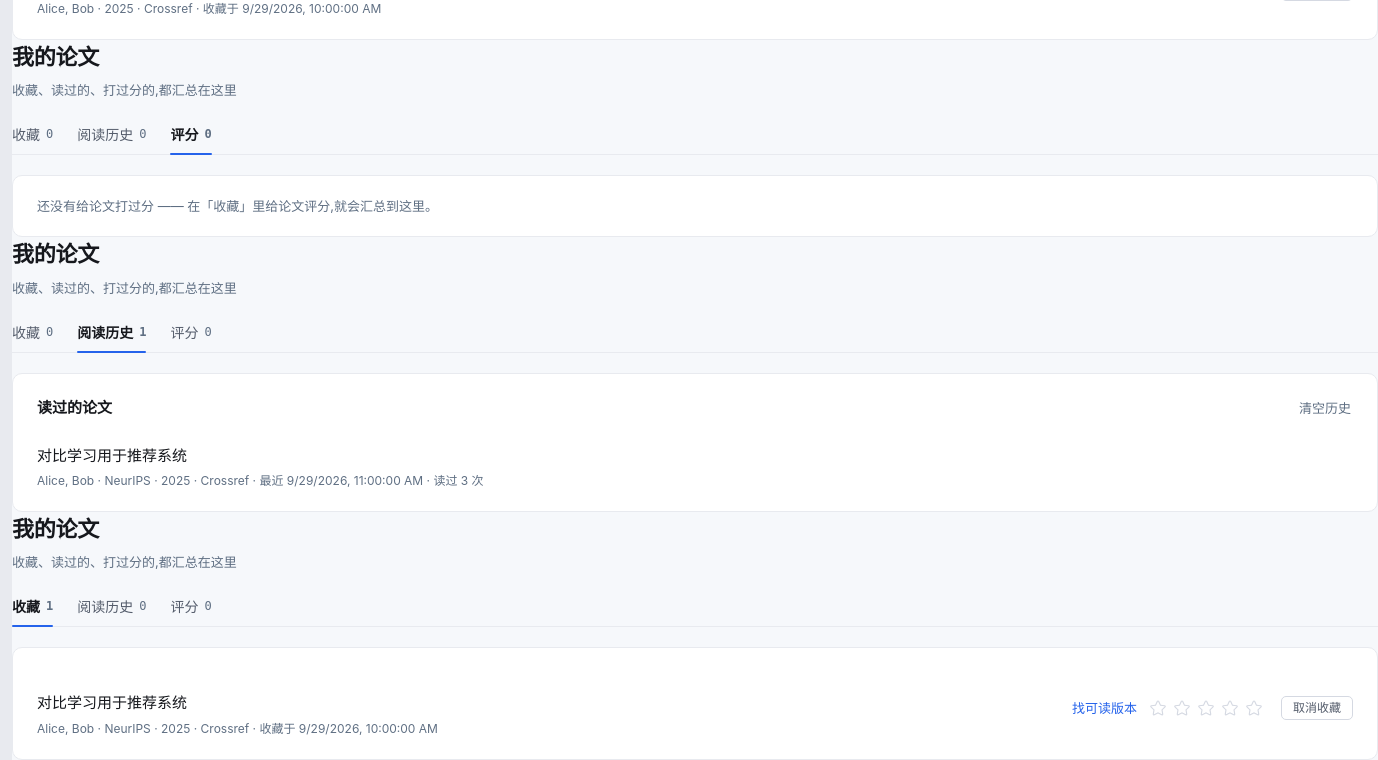
it: LibraryView › 取消收藏后从列表里移除
(page scrolled)
Click the 2nd button "取消收藏" at {"x": 1317, "y": 708}, box [1281,696,1353,720]
(page scrolled)
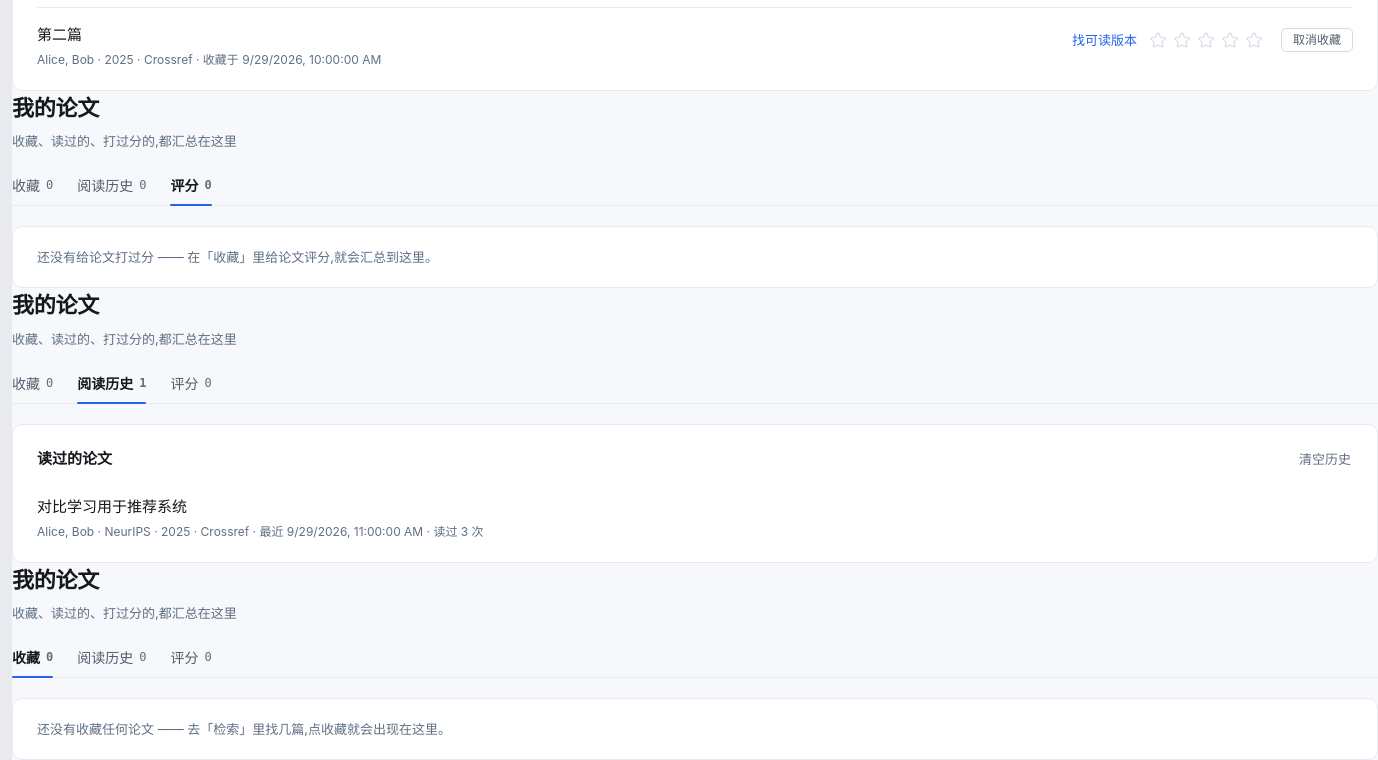
Expected: the text "还没有收藏任何论文 —— 去「检索」里找几篇,点收藏就会出现在这里。" is shown, [37,721,451,737]
